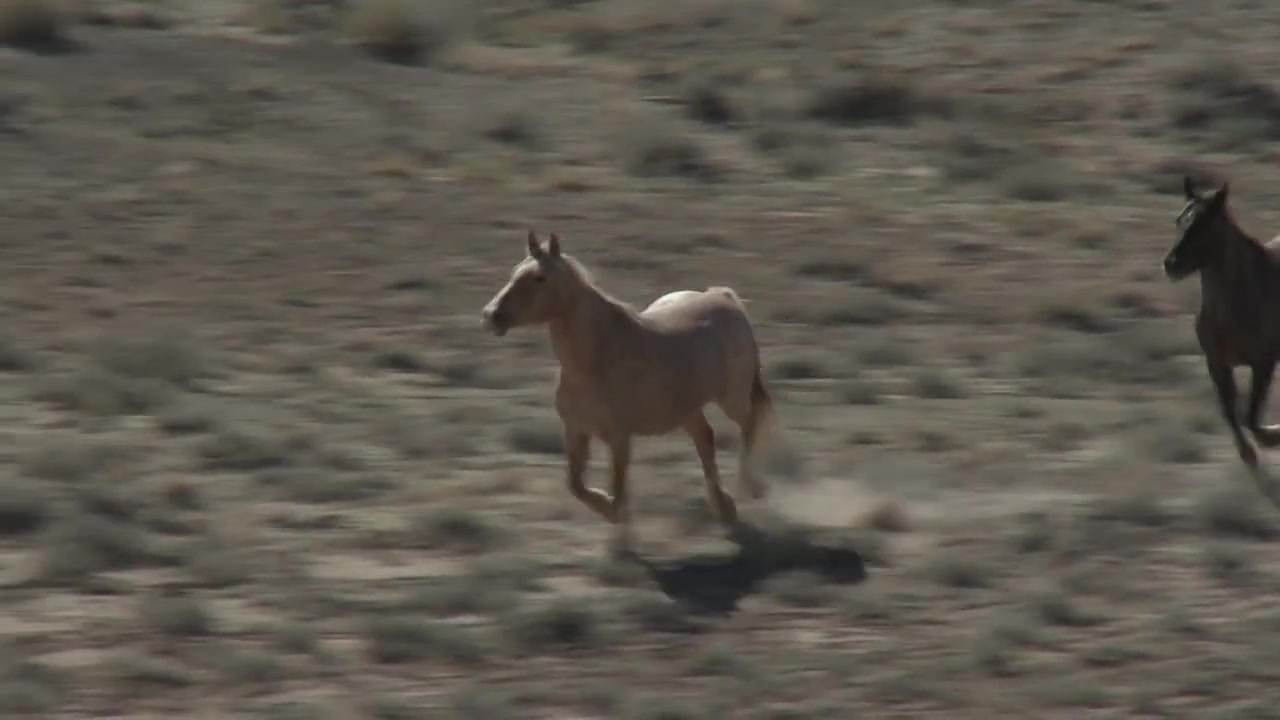horse: (477, 227, 780, 528), (1160, 167, 1280, 508)
